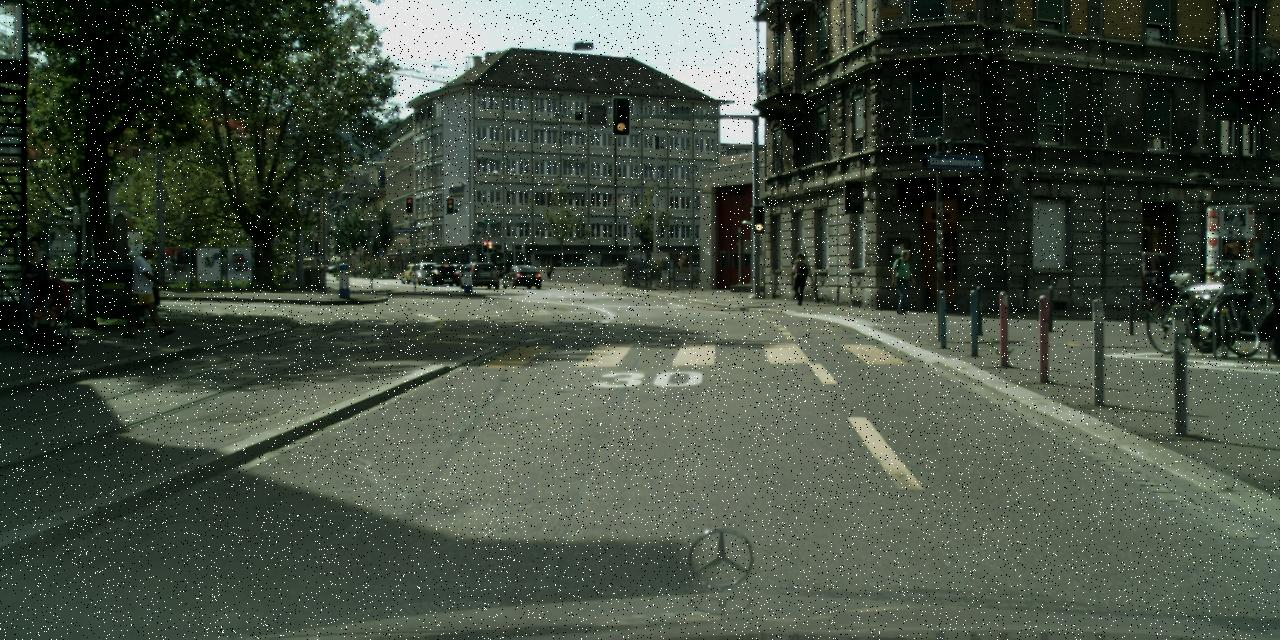ped: (13, 235, 59, 347), (131, 245, 168, 336), (890, 249, 916, 313), (788, 252, 809, 302), (544, 258, 553, 282)
